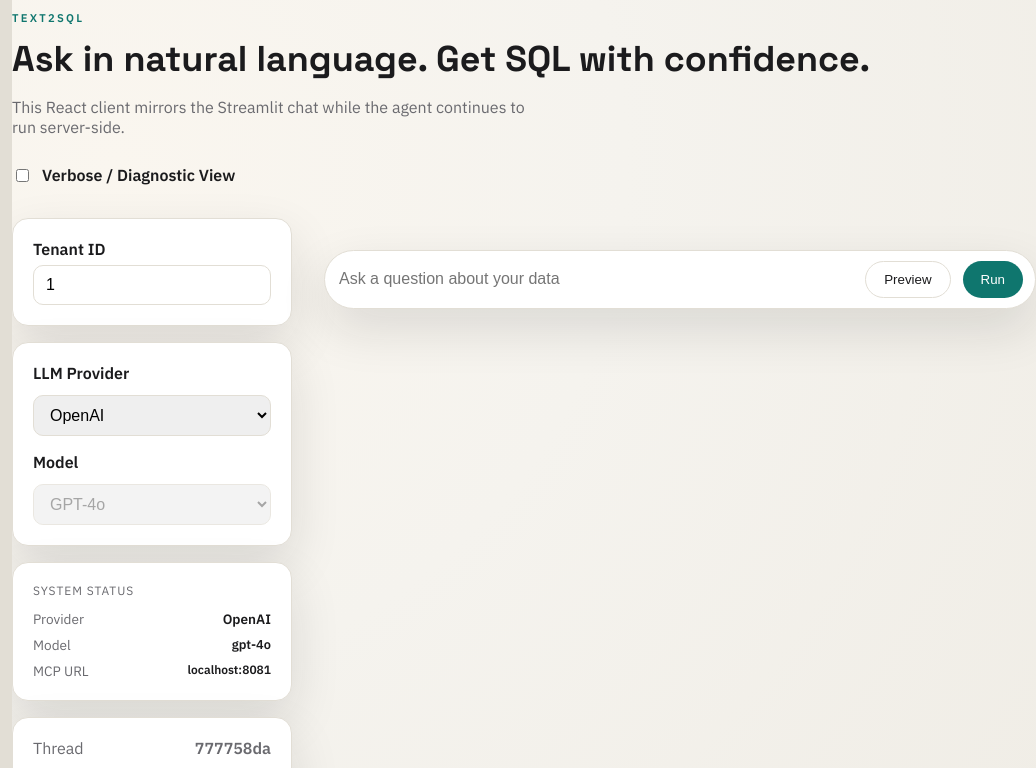
AgentChat observability › filters decision events by search text and phase while preserving order
Type "filter decisions" into the field with placeholder "Ask a question about your data". click: (595, 279)
box: [337,261,853,298]
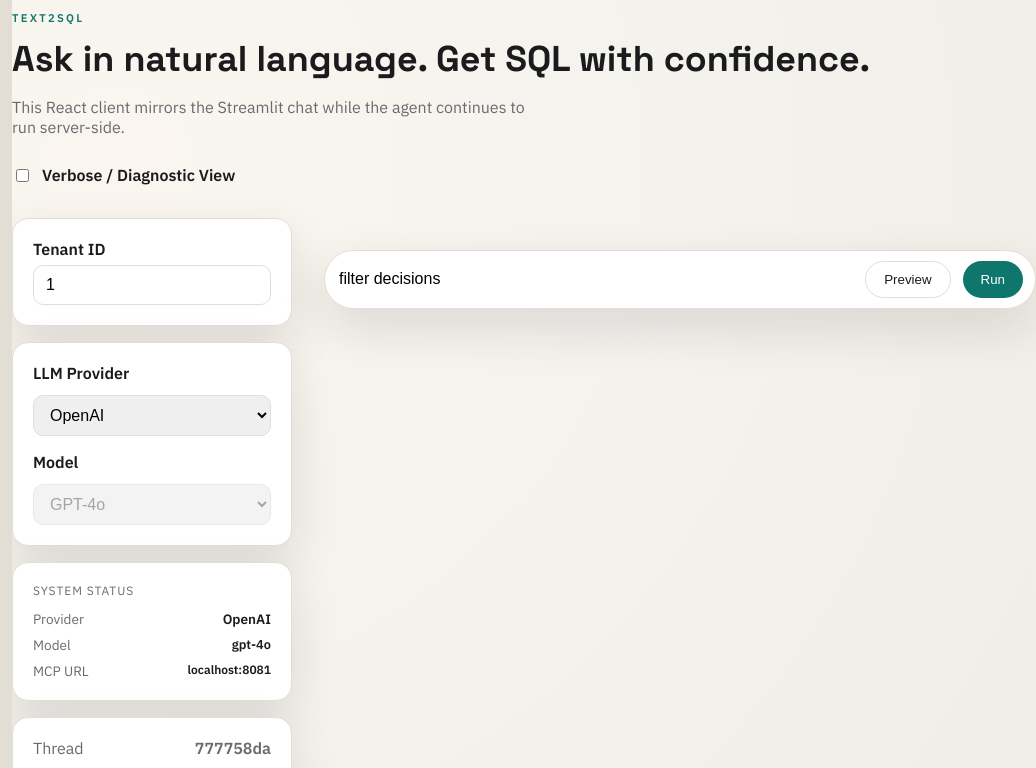
Submit the form with placeholder "ask a question", box [324,250,1035,309]
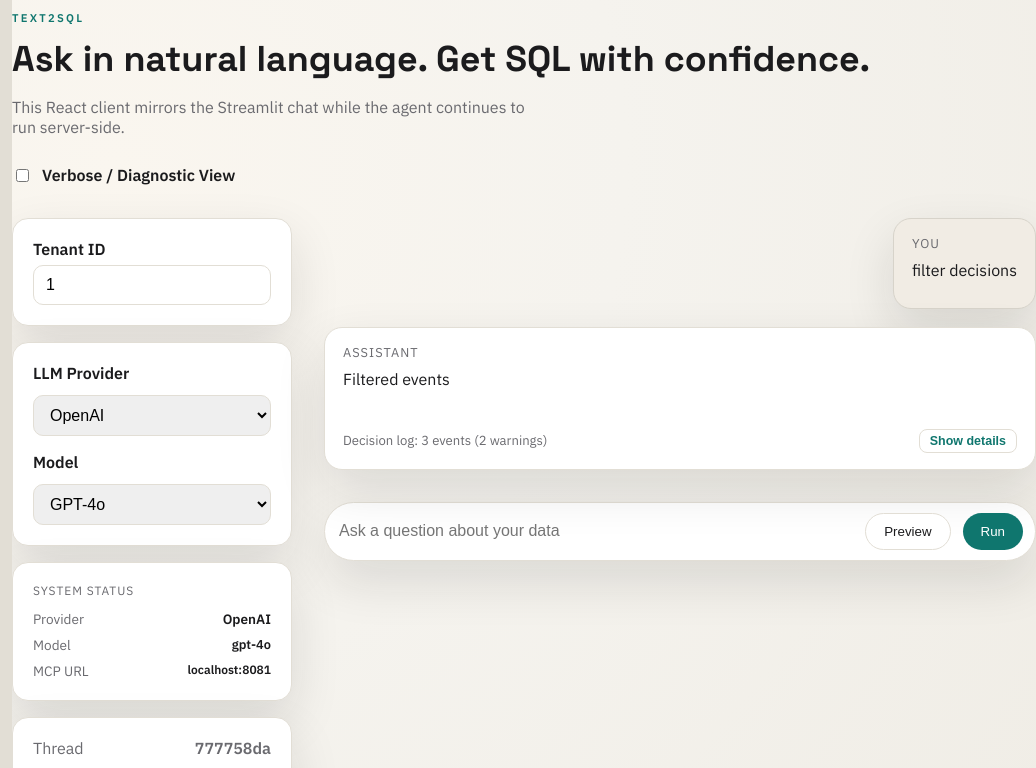
Check: the text "Filtered events" is shown, box [343,369,450,389]
Click the button with test id "decision-log-toggle". click: (968, 441)
box: [919,429,1017,453]
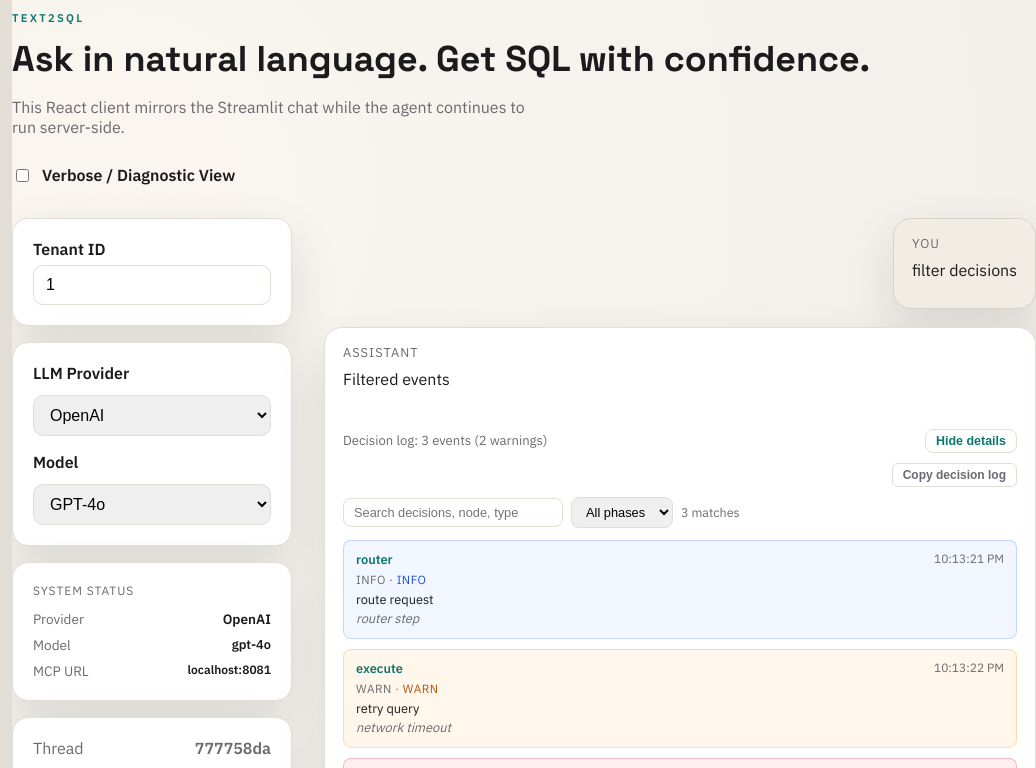
Type "retry" into the field with test id "decision-log-search". click: (453, 512)
box: [343,498,563,527]
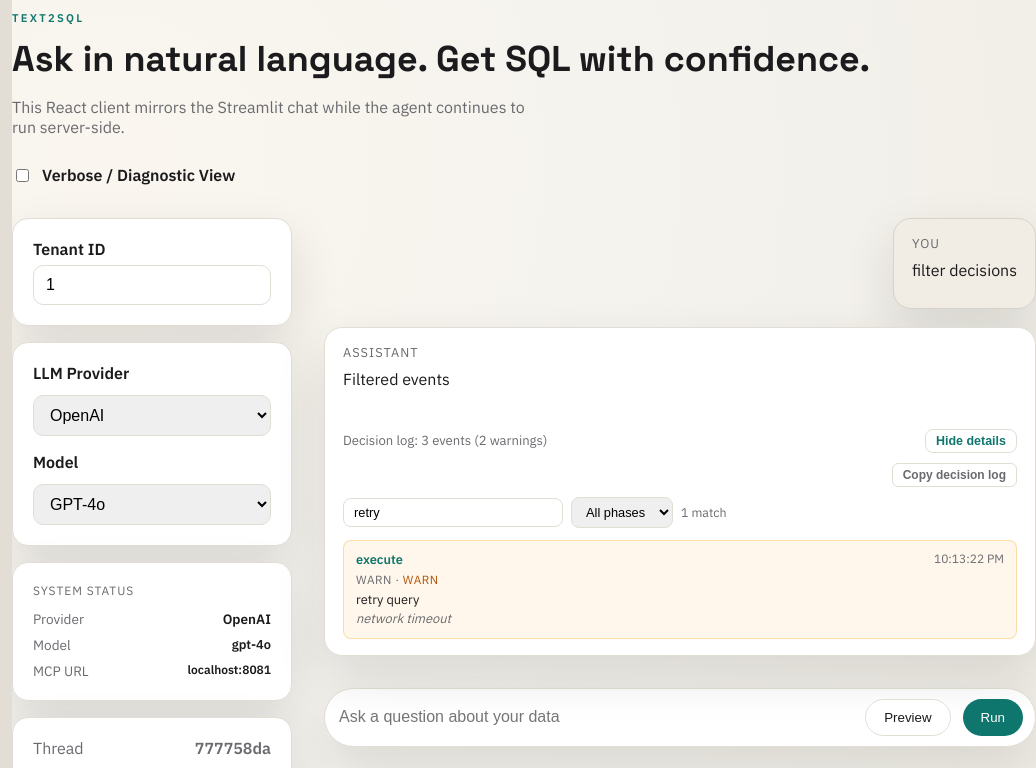
Check: the elements with test id "decision-event-decision" read "retry query", in this order, box [356,591,419,608]
Clear the field with test id "decision-log-search". click: (453, 512)
box: [343,498,563,527]
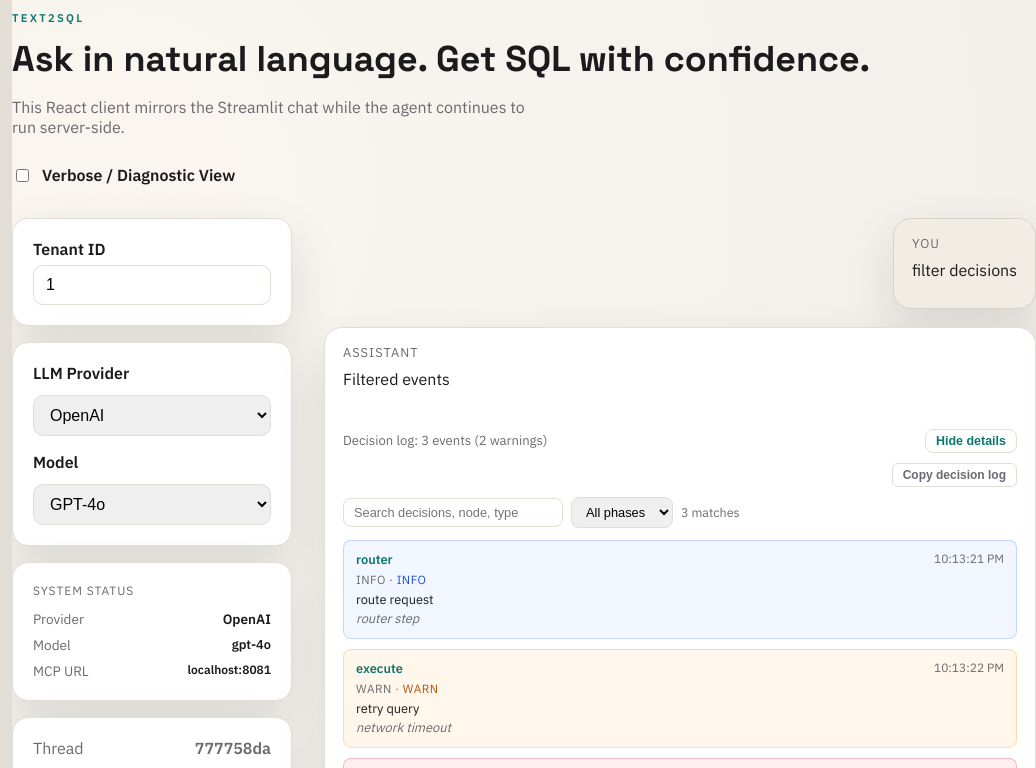
Select "execute" in the dropdown with test id "decision-log-phase-filter". click: (622, 512)
box: [571,497,673,528]
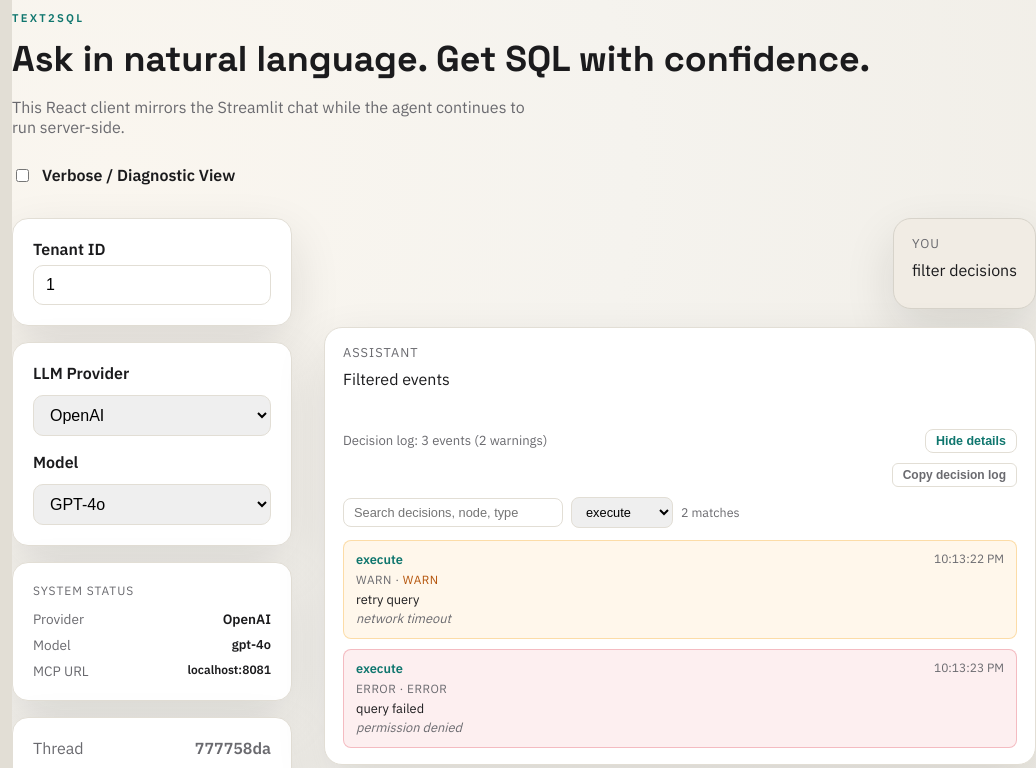
Check: the elements with test id "decision-event-decision" read "retry query", "query failed", in this order, box [356,591,419,608]; [356,700,424,717]
